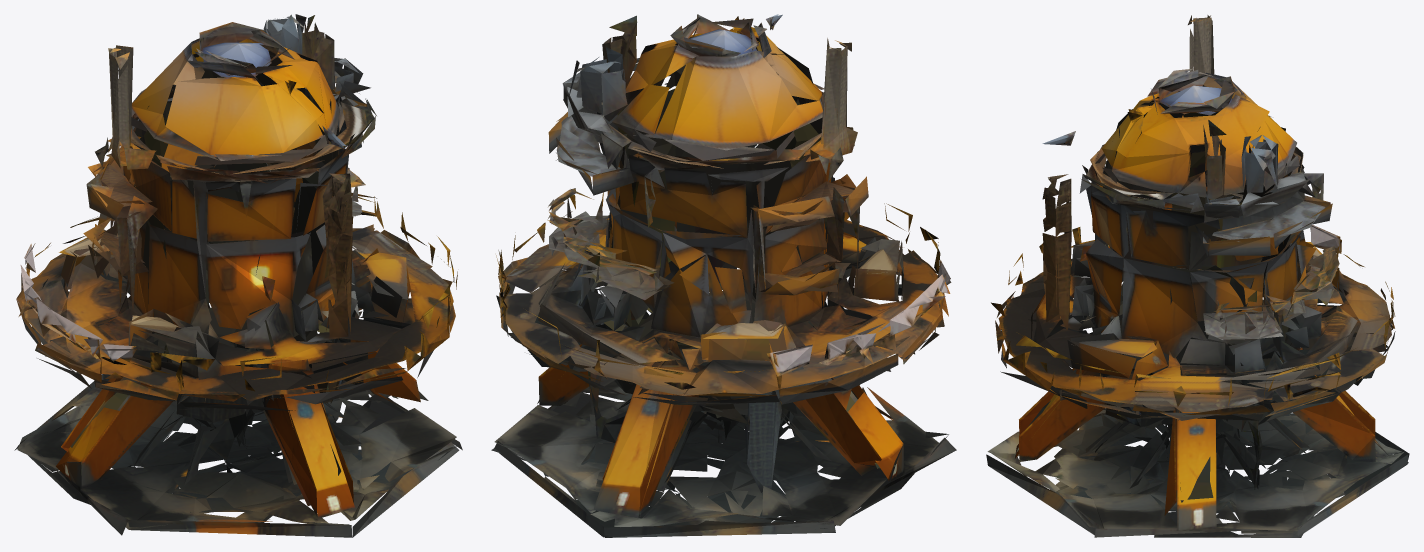
Rendered from core_reactor_t1.fbx.
3 renders of one model, left to right at view 1: azimuth 30°, elevation 25°; view 2: azimuth 150°, elevation 25°; view 3: azimuth 270°, elevation 25°, orthographic. The views are drawn at different scales.
Visible parts, largest first — view 1: core_reactor_t1; view 2: core_reactor_t1; view 3: core_reactor_t1.
Part boxes in pixels (x1,y1,x2,y2): core_reactor_t1: (14, 14, 462, 537); core_reactor_t1: (491, 14, 956, 537); core_reactor_t1: (986, 15, 1409, 537).
Size of the model in its own units: 2.94 by 3.3 by 3.07.
Materials: 1 (1 with a texture image).
